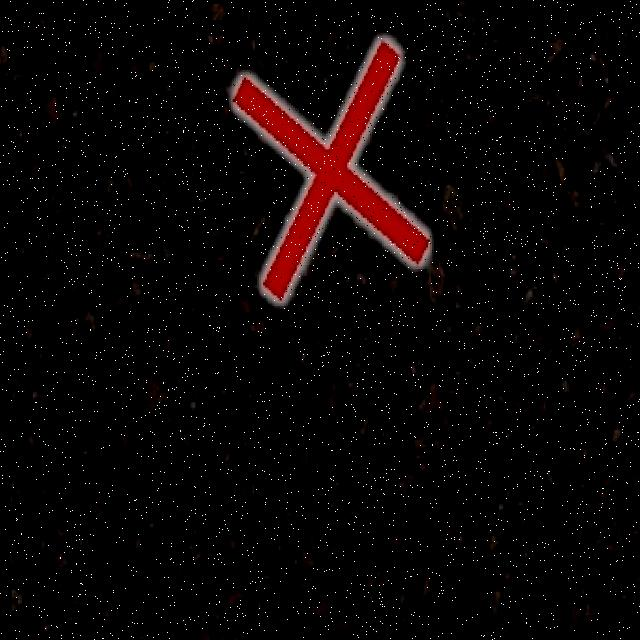x_marker: (231, 38, 428, 300)
